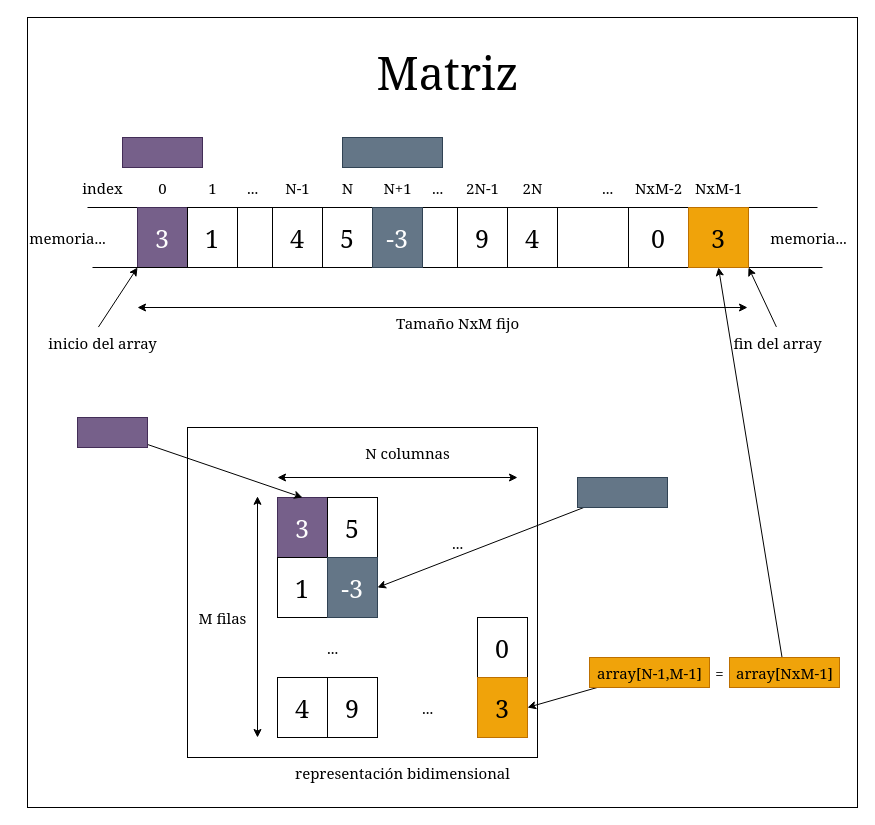
The diagram is 875 pixels wide and 825 high, and some of its shapes have lost their labels. Each missing label, with the centre of its shape:
array[0,0]: the point at 112,432
array[0]: the point at 162,152
array[1,1]: the point at 622,492
array[N+1]: the point at 392,152
